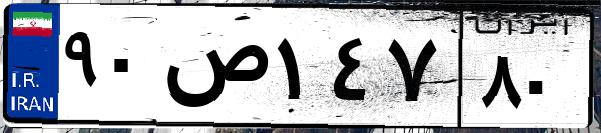0: (525, 38, 570, 115), (110, 28, 158, 98)
1: (270, 28, 330, 110)
4: (330, 28, 385, 110)
7: (385, 28, 445, 110)
8: (475, 38, 525, 113)
9: (57, 26, 110, 100)
ص: (158, 20, 270, 120)
